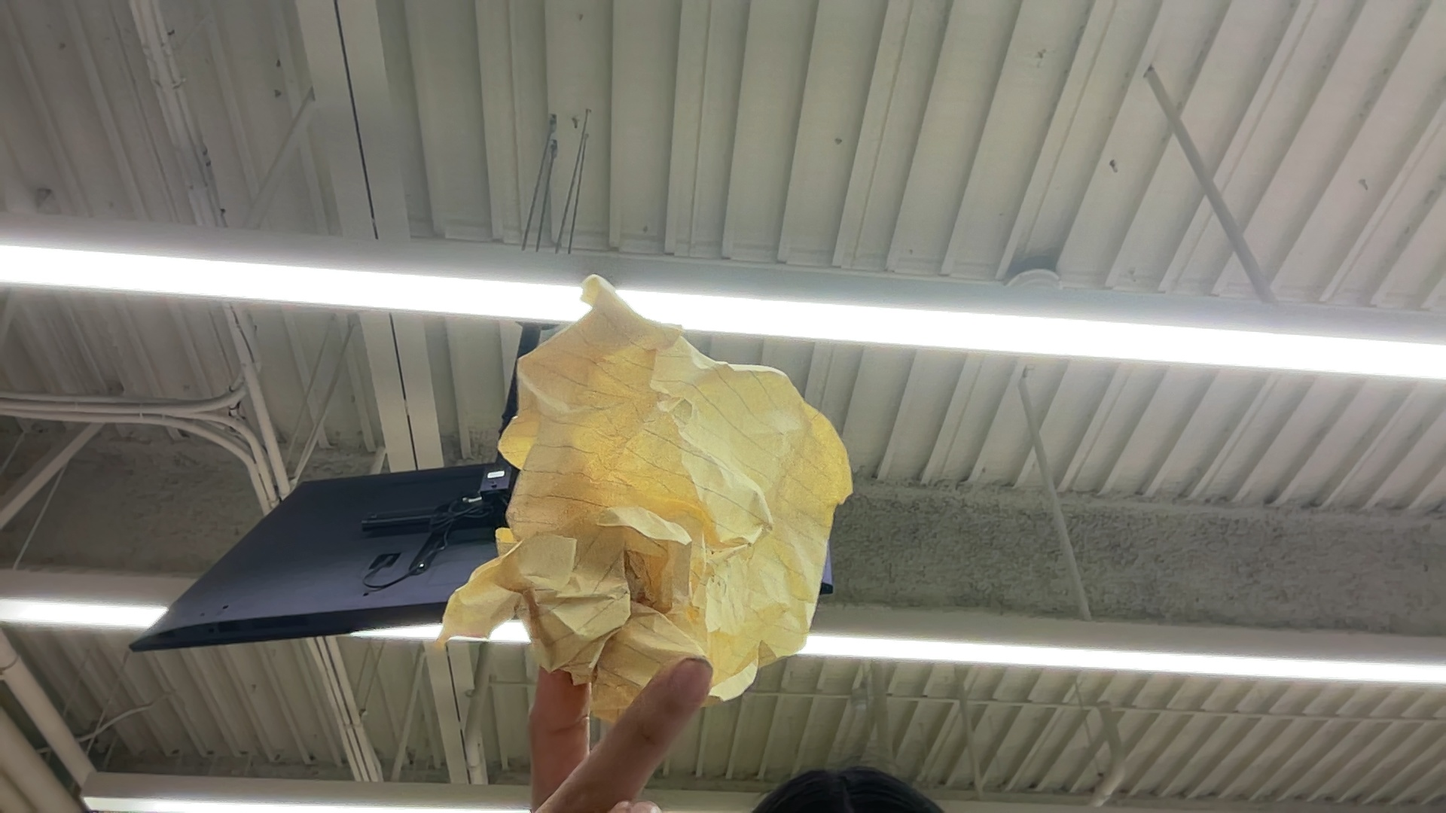Paper: (3, 406, 274, 600)
